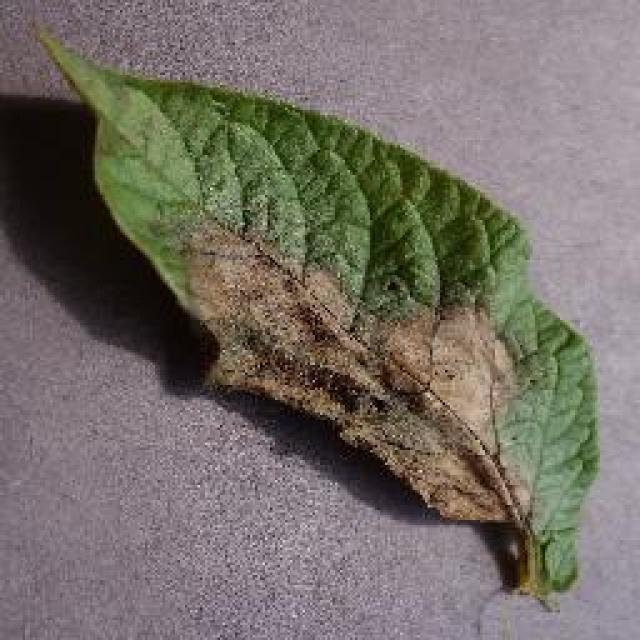late_blight: (28, 18, 602, 608)
